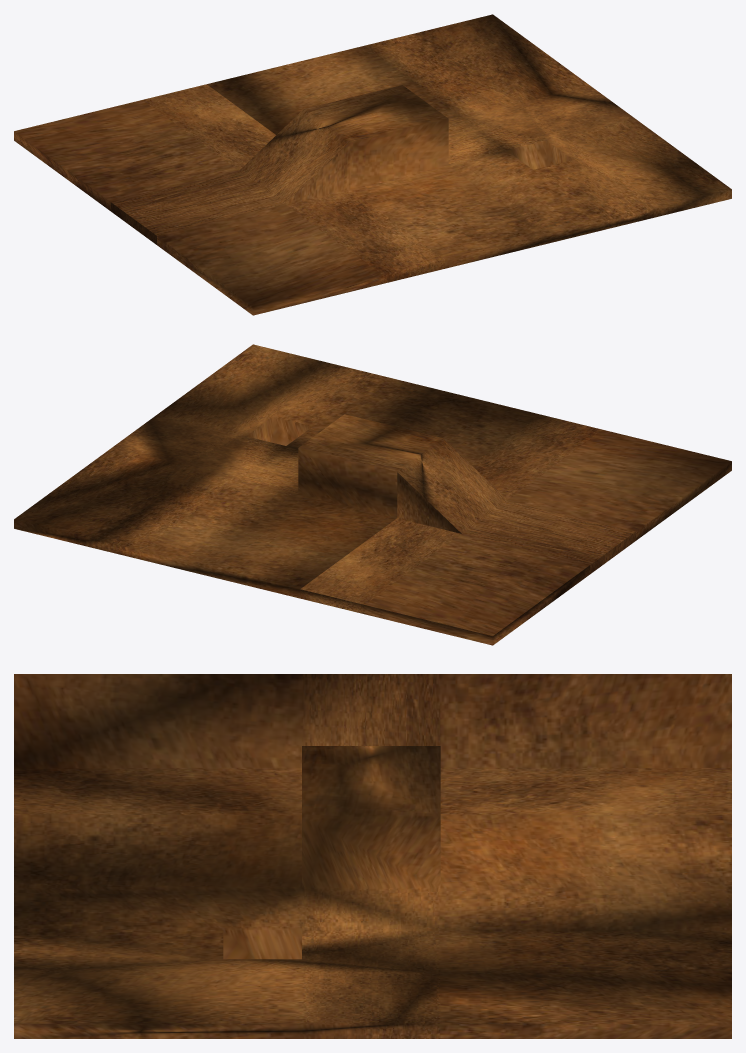
Rendered from Field.fbx.
The picture shows the model from 3 angles, top to bottom: view 1: azimuth 30°, elevation 25°; view 2: azimuth 150°, elevation 25°; view 3: azimuth 270°, elevation 25°; orthographic projection. The views are drawn at different scales.
Visible parts, largest first — view 1: imagetostl_mesh; view 2: imagetostl_mesh; view 3: imagetostl_mesh.
Boxes of the visible parts, left/top/right/bottom form: imagetostl_mesh: left=14, top=14, right=731, bottom=315; imagetostl_mesh: left=14, top=344, right=731, bottom=645; imagetostl_mesh: left=14, top=674, right=731, bottom=1038.
Bounding box in the file's own units: 133 × 24.9 × 115.
Materials: 1 (1 with a texture image).
